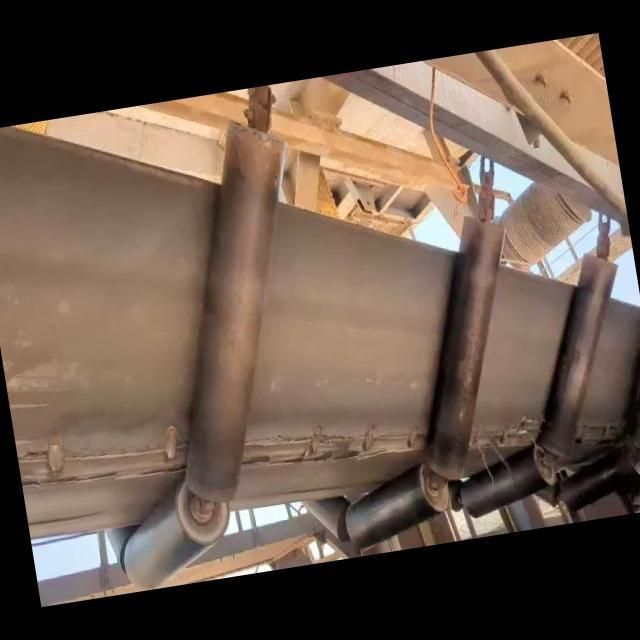Tear: (12, 418, 192, 492), (245, 416, 430, 466), (466, 411, 556, 449), (574, 418, 638, 454)
